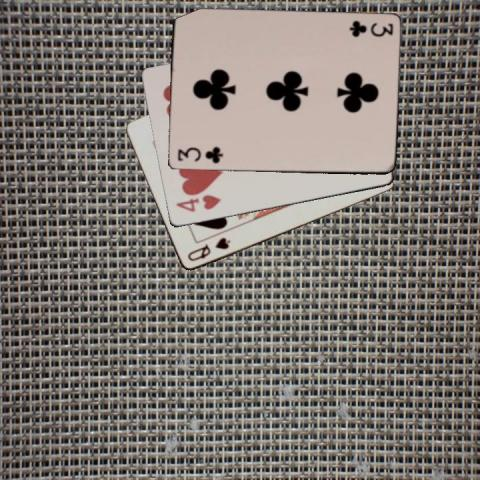3c: (174, 144, 224, 165), (346, 18, 394, 37)
4h: (173, 193, 222, 214)
Qs: (184, 235, 232, 263)
